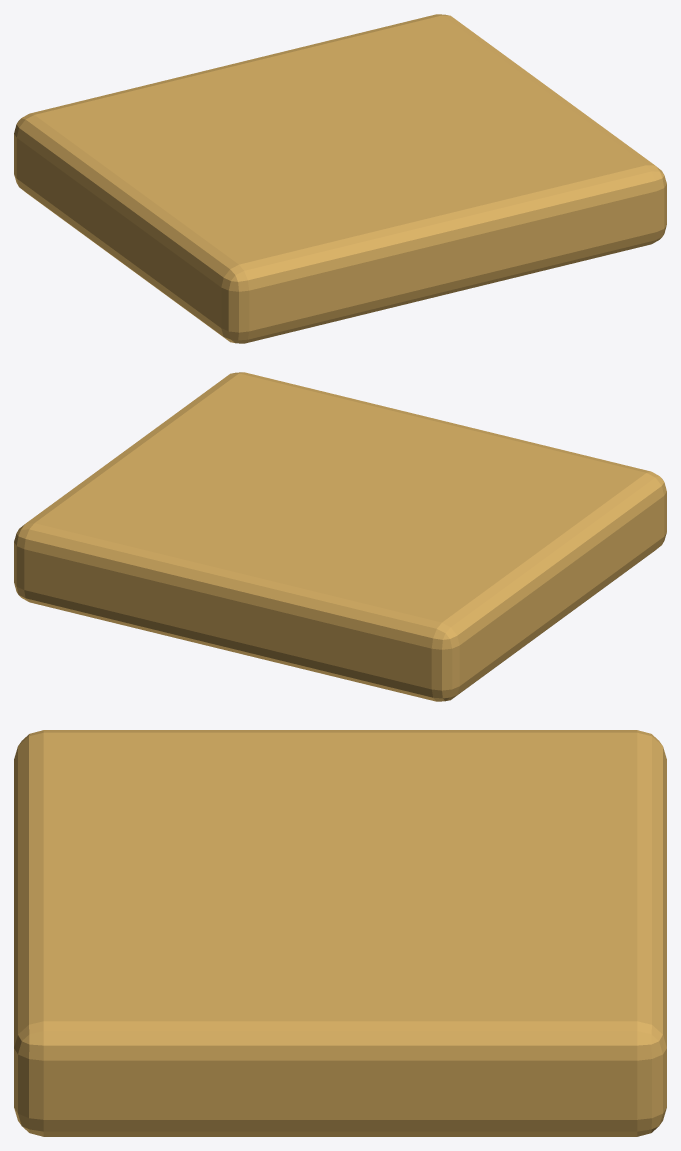
Rendered from SM_HC_BeatCrown_19.fbx.
The picture shows the model from 3 angles, top to bottom: view 1: azimuth 30°, elevation 25°; view 2: azimuth 150°, elevation 25°; view 3: azimuth 270°, elevation 25°; orthographic projection. The views are drawn at different scales.
Visible parts, largest first — view 1: SM_HC_BeatCrown_19; view 2: SM_HC_BeatCrown_19; view 3: SM_HC_BeatCrown_19.
Part boxes in pixels (x1,y1,x2,y2): SM_HC_BeatCrown_19: (14, 14, 666, 343); SM_HC_BeatCrown_19: (14, 372, 666, 701); SM_HC_BeatCrown_19: (14, 730, 666, 1136).
Size of the model in its own units: 250 by 220 by 42.
